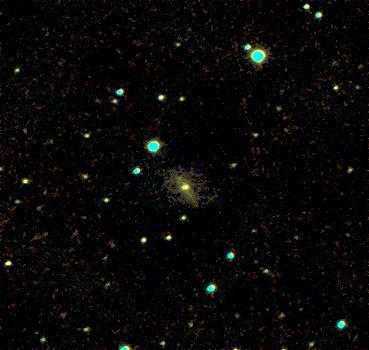star: (165, 162, 195, 192)
